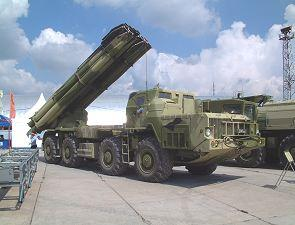MIL_SAM_TEL: (28, 27, 264, 182)
